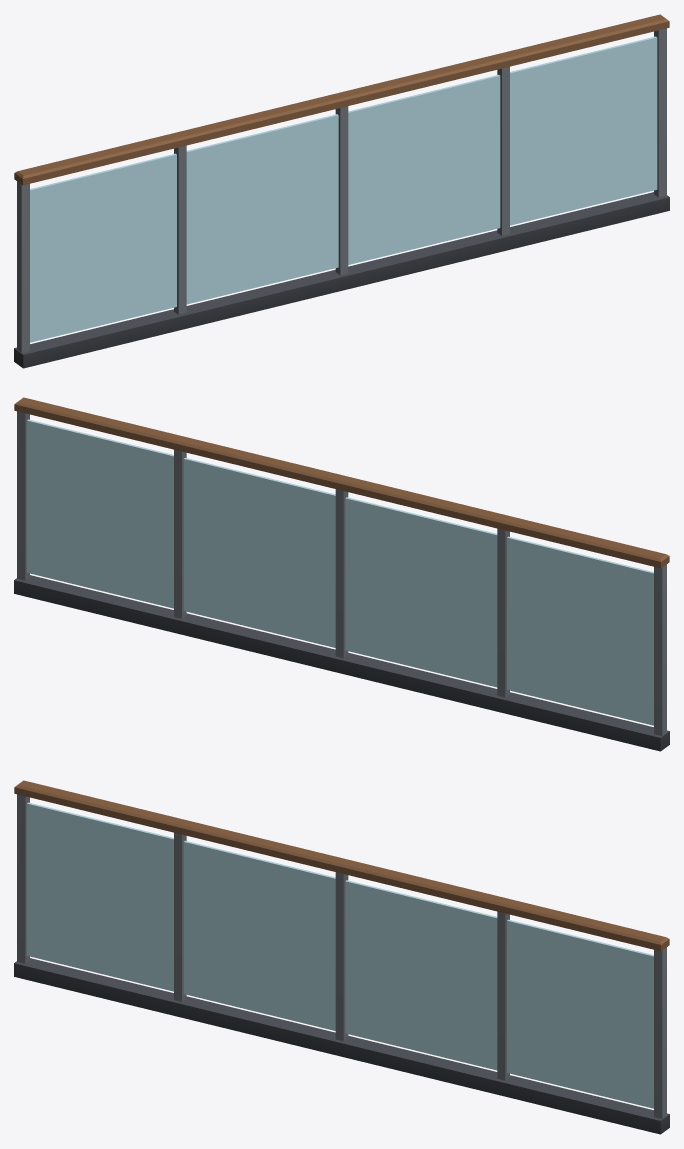
The model's file is terrace_rail_01.glb.
3 renders of one model, top to bottom at view 1: azimuth 30°, elevation 25°; view 2: azimuth 150°, elevation 25°; view 3: azimuth 330°, elevation 25°, orthographic.
Parts seen in each view (by area): view 1: terrace_rail_01_glass, terrace_rail_01_mesh; view 2: terrace_rail_01_glass, terrace_rail_01_mesh; view 3: terrace_rail_01_glass, terrace_rail_01_mesh.
Boxes of the visible parts, box(x1,y1,x2,y2) form: terrace_rail_01_glass: box(30, 36, 657, 342); terrace_rail_01_mesh: box(14, 14, 669, 368); terrace_rail_01_glass: box(26, 419, 653, 725); terrace_rail_01_mesh: box(14, 397, 669, 751); terrace_rail_01_glass: box(26, 802, 653, 1108); terrace_rail_01_mesh: box(14, 780, 669, 1134).
Bounding box in the file's own units: 4 × 1.13 × 0.1001.
2 materials, 2 textured.
